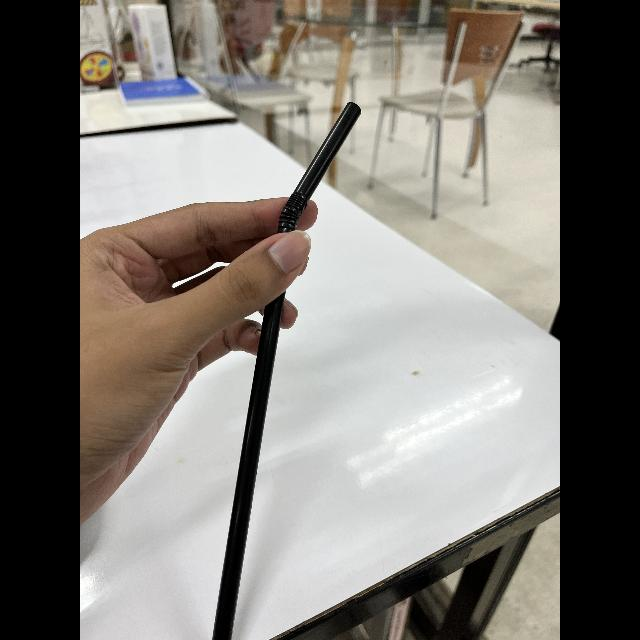straw: (205, 94, 368, 640)
